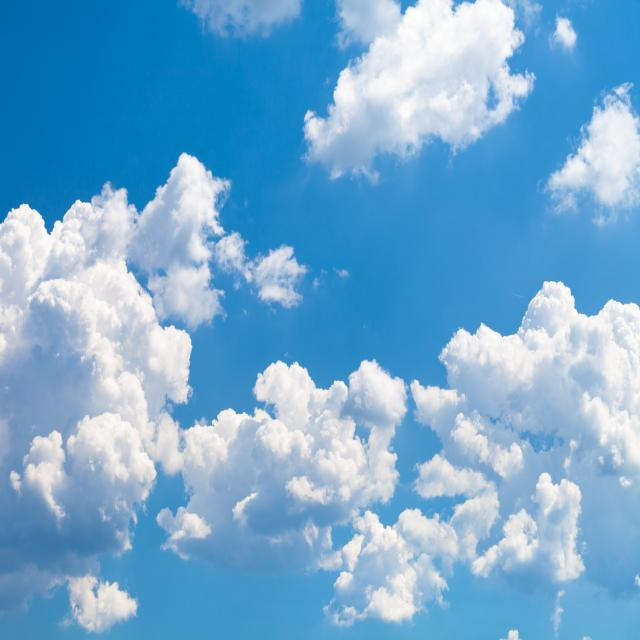cumulus: (156, 351, 433, 576), (423, 258, 640, 490), (288, 0, 546, 193)
